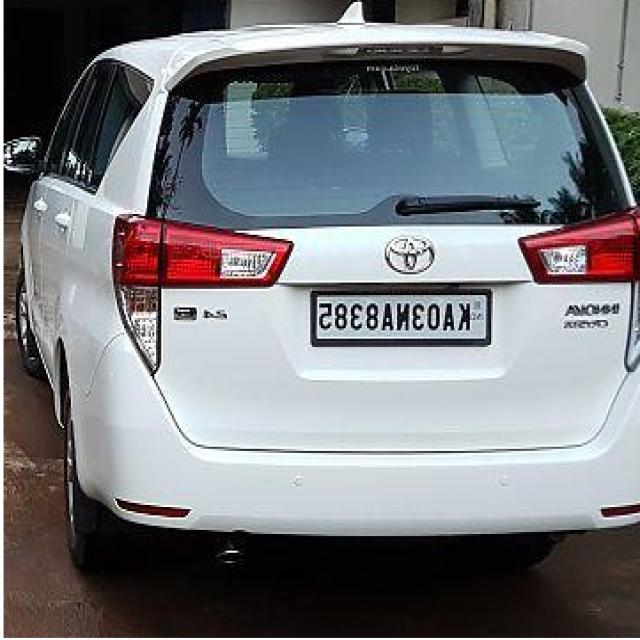number-plate: (307, 297, 493, 347)
